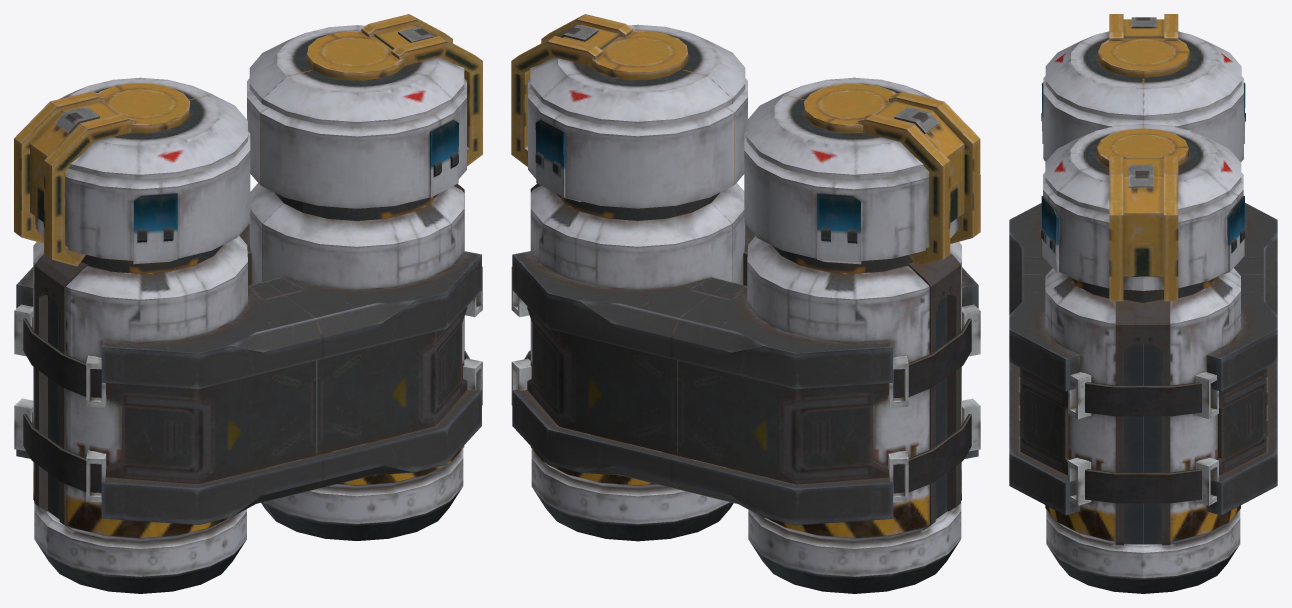
Rendered from Demo_huowu.FBX.
3 views of the same model, side by side, from view 1: azimuth 30°, elevation 25°; view 2: azimuth 150°, elevation 25°; view 3: azimuth 270°, elevation 25° (orthographic). The views are drawn at different scales.
Parts seen in each view (by area): view 1: Demo_huowu; view 2: Demo_huowu; view 3: Demo_huowu.
Boxes of the visible parts, x1,y1,x2,y2 form: Demo_huowu: (14,14,482,593); Demo_huowu: (511,14,980,593); Demo_huowu: (1009,14,1277,593).
Size of the model in its own units: 2.31 by 2.33 by 1.37.
